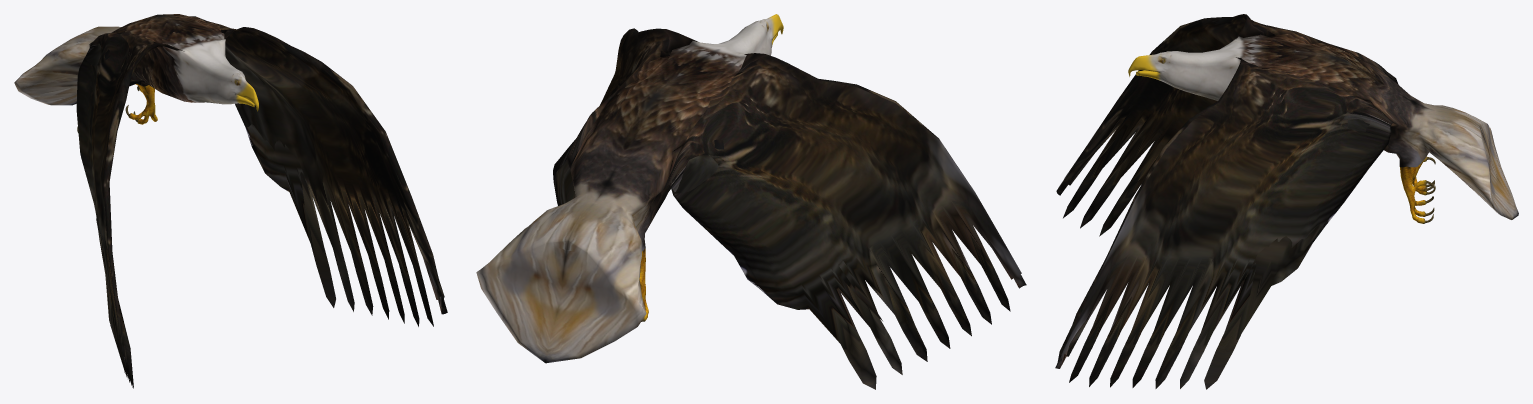
Rendered from Eagle-original_000077.obj.
3 views of the same model, side by side, from view 1: azimuth 30°, elevation 25°; view 2: azimuth 150°, elevation 25°; view 3: azimuth 270°, elevation 25° (orthographic). The views are drawn at different scales.
Parts seen in each view (by area): view 1: Flugel_Plane.003; view 2: Flugel_Plane.003; view 3: Flugel_Plane.003.
Part boxes in pixels (x1,y1,x2,y2): Flugel_Plane.003: (14, 14, 447, 388); Flugel_Plane.003: (476, 14, 1026, 389); Flugel_Plane.003: (1055, 14, 1518, 389).
Bounding box in the file's own units: 5.35 × 4.61 × 6.6.
1 material, 1 textured.
